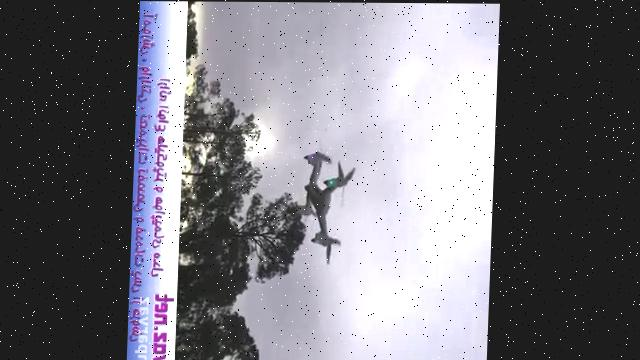drone: (295, 136, 362, 264)
